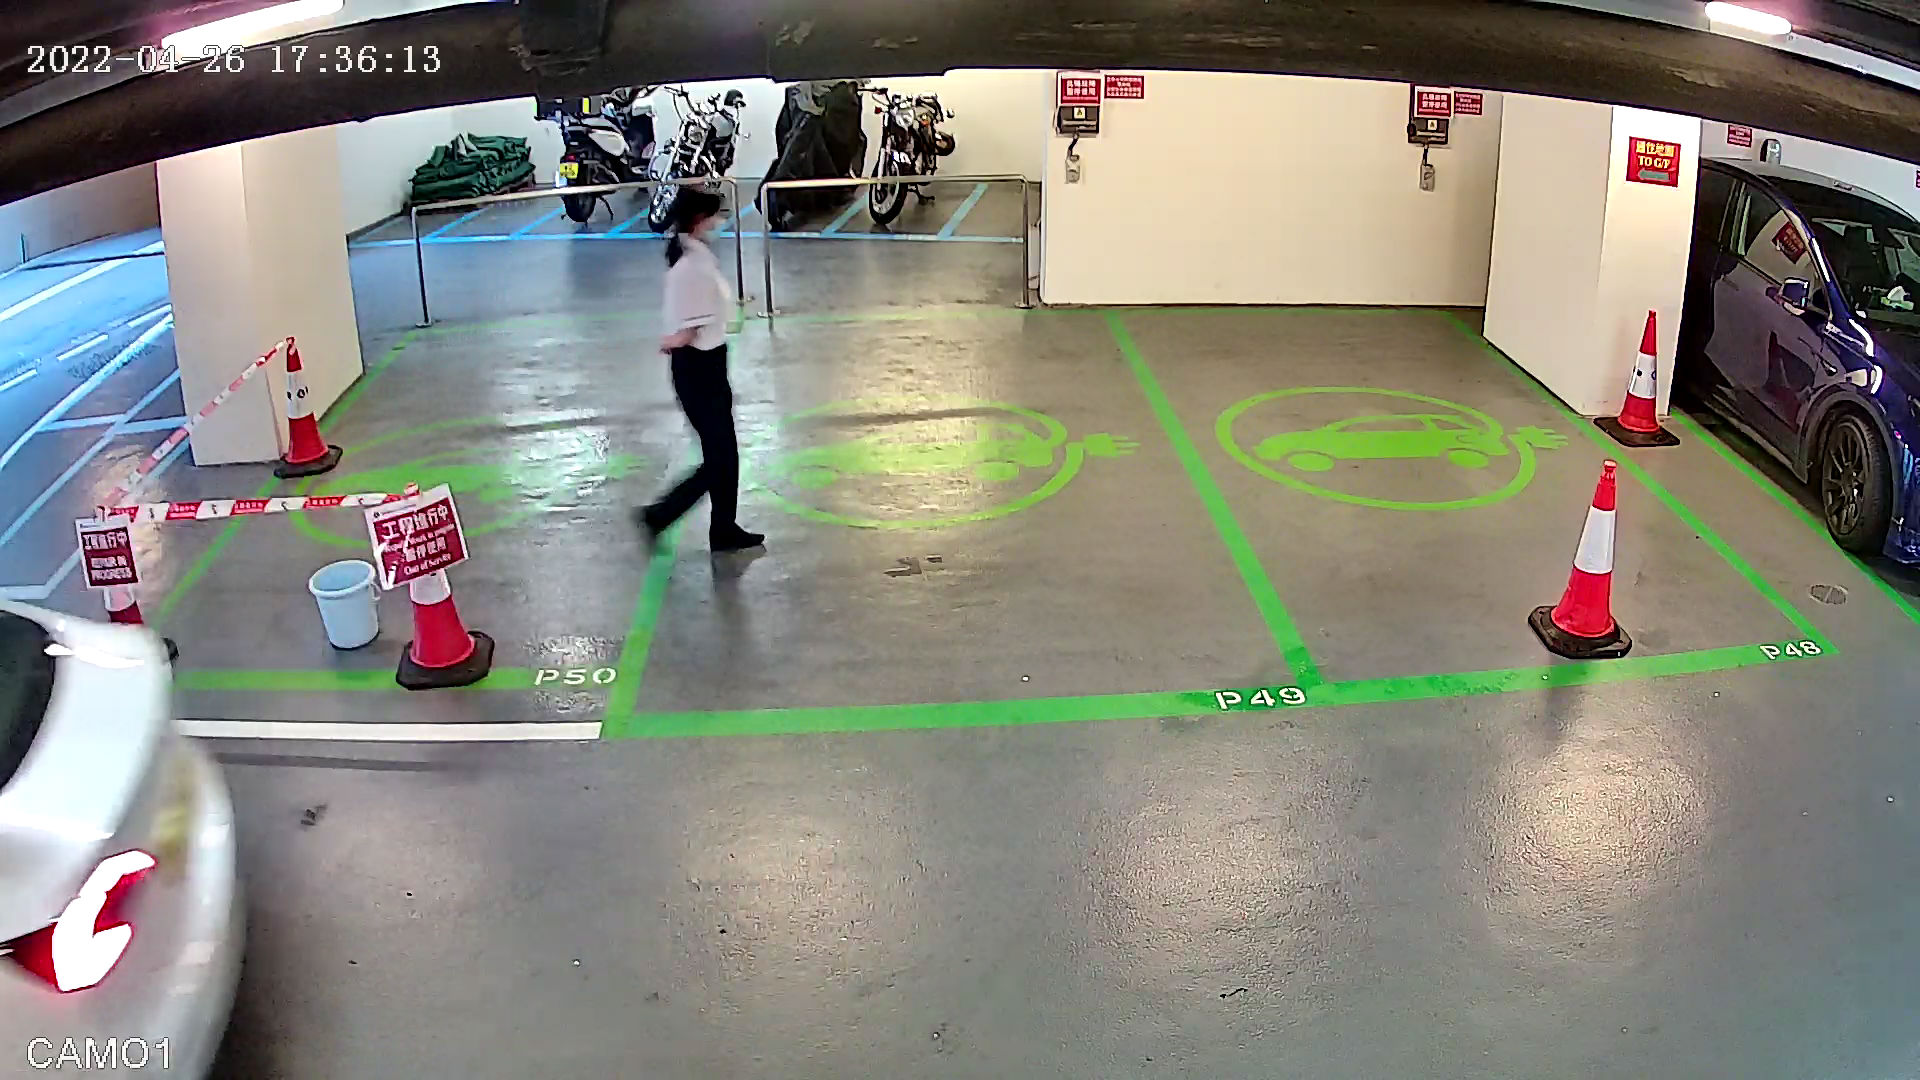space: (578, 269, 1331, 752), (1085, 260, 1851, 731)
